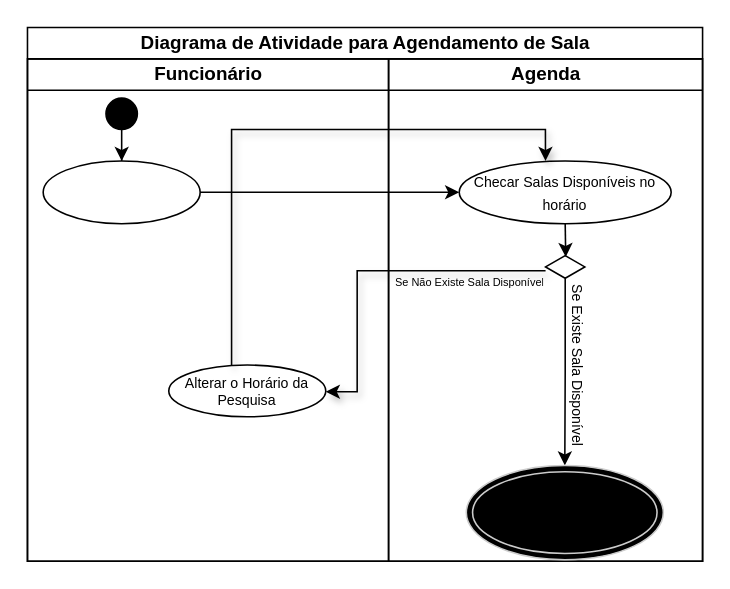
The diagram is 730 pixels wide and 589 high, and some of its shapes have lost their labels. The shapes that lost their labels are listed below. From the top down, each one's centre as x and y in pixels, then its label:
(x=121, y=191): Reservar sala em determinado Horário
(x=564, y=512): Realiza Agendamento de uma Sala Disponível
